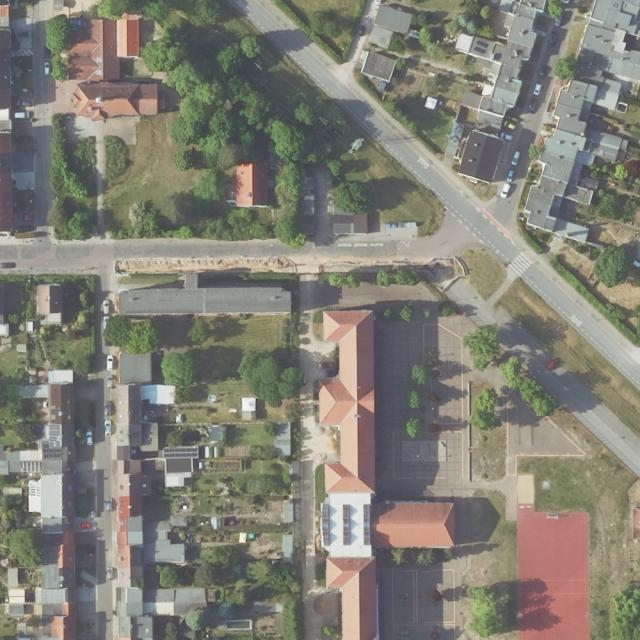PV: (43, 424, 61, 458), (162, 446, 198, 457), (473, 36, 489, 55)
